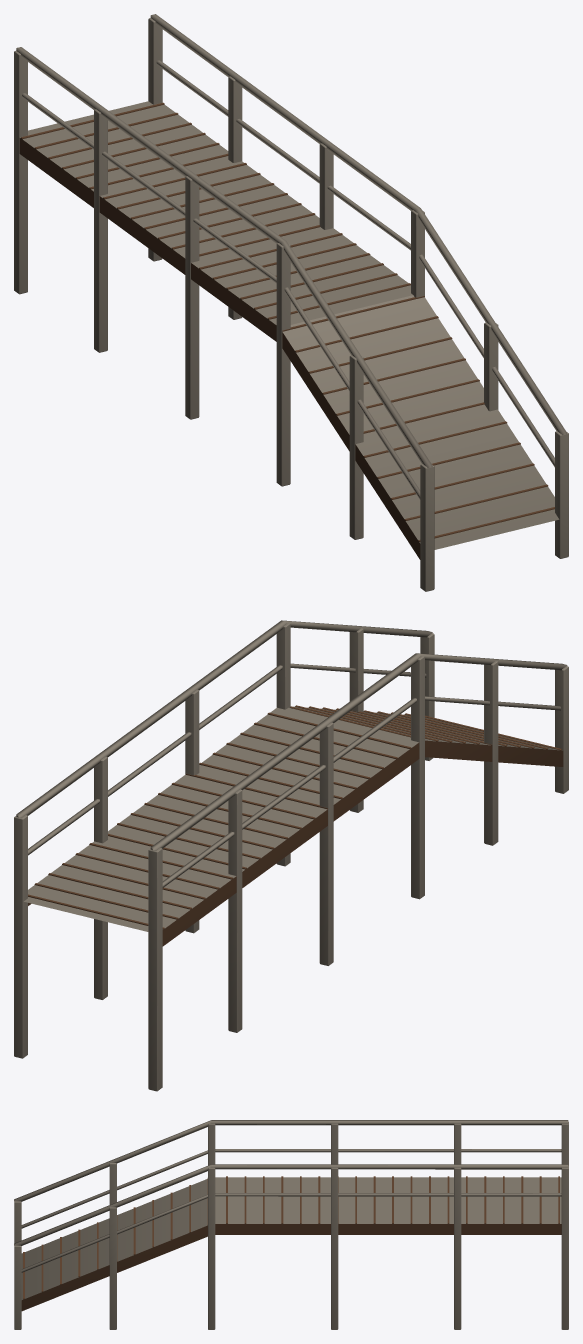
File: CrossoverFL.fbx
3 renders of one model, top to bottom at view 1: azimuth 30°, elevation 25°; view 2: azimuth 150°, elevation 25°; view 3: azimuth 270°, elevation 25°, orthographic. The views are drawn at different scales.
Parts seen in each view (by area): view 1: CrossoverFL; view 2: CrossoverFL; view 3: CrossoverFL.
Boxes of the visible parts, x1=… form: CrossoverFL: x1=14, y1=14, x2=568, y2=591; CrossoverFL: x1=14, y1=620, x2=568, y2=1091; CrossoverFL: x1=14, y1=1120, x2=568, y2=1329.
Bounding box in the file's own units: 1.82 × 2.93 × 9.02.
